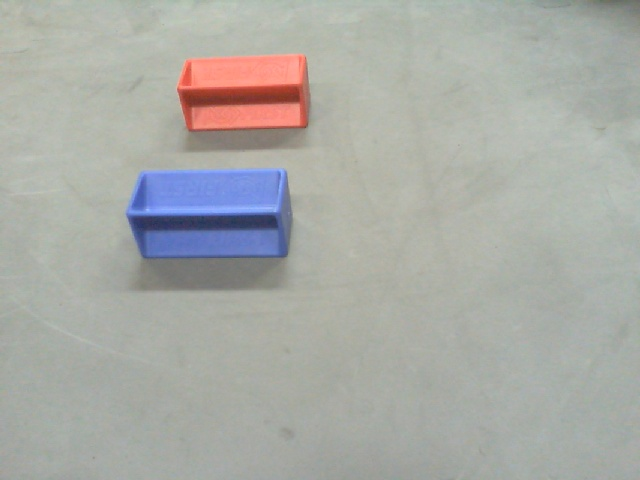BlueSample: (124, 169, 296, 261)
RedSample: (177, 54, 312, 130)
